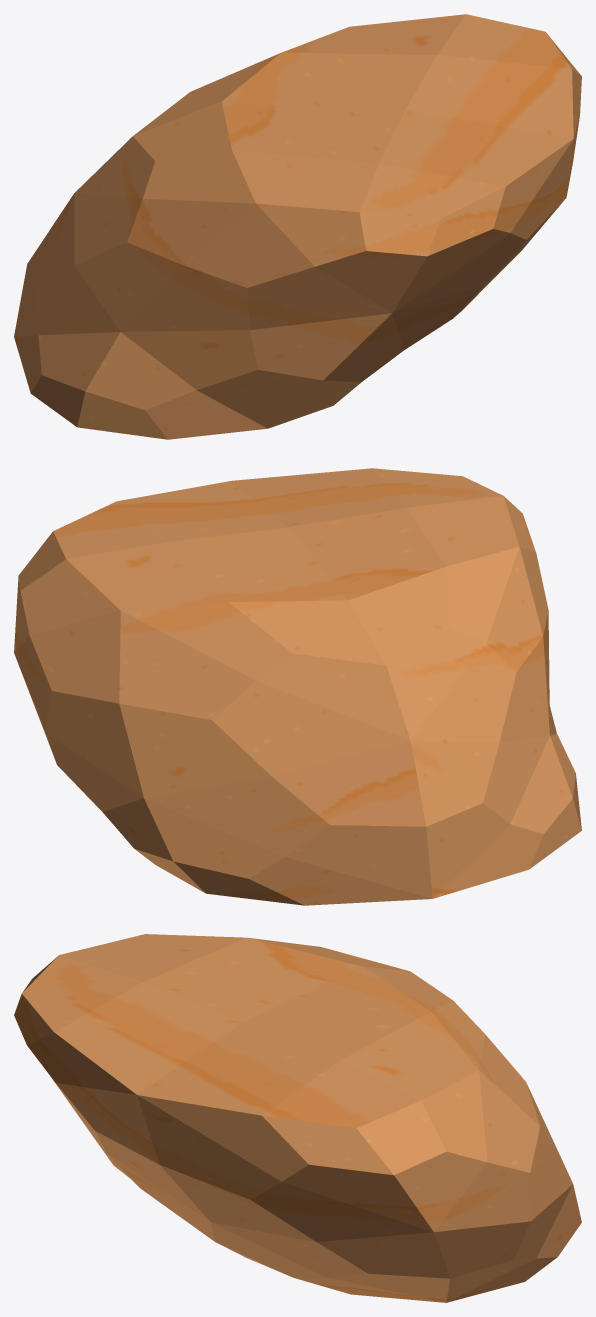
File: rock4.fbx
3 renders of one model, top to bottom at view 1: azimuth 30°, elevation 25°; view 2: azimuth 150°, elevation 25°; view 3: azimuth 270°, elevation 25°, orthographic. The views are drawn at different scales.
Visible parts, largest first — view 1: Plane; view 2: Plane; view 3: Plane.
Boxes of the visible parts, x1=… form: Plane: x1=14, y1=14, x2=581, y2=439; Plane: x1=14, y1=468, x2=581, y2=905; Plane: x1=14, y1=934, x2=581, y2=1302.
Bounding box in the file's own units: 310 × 145 × 286.
